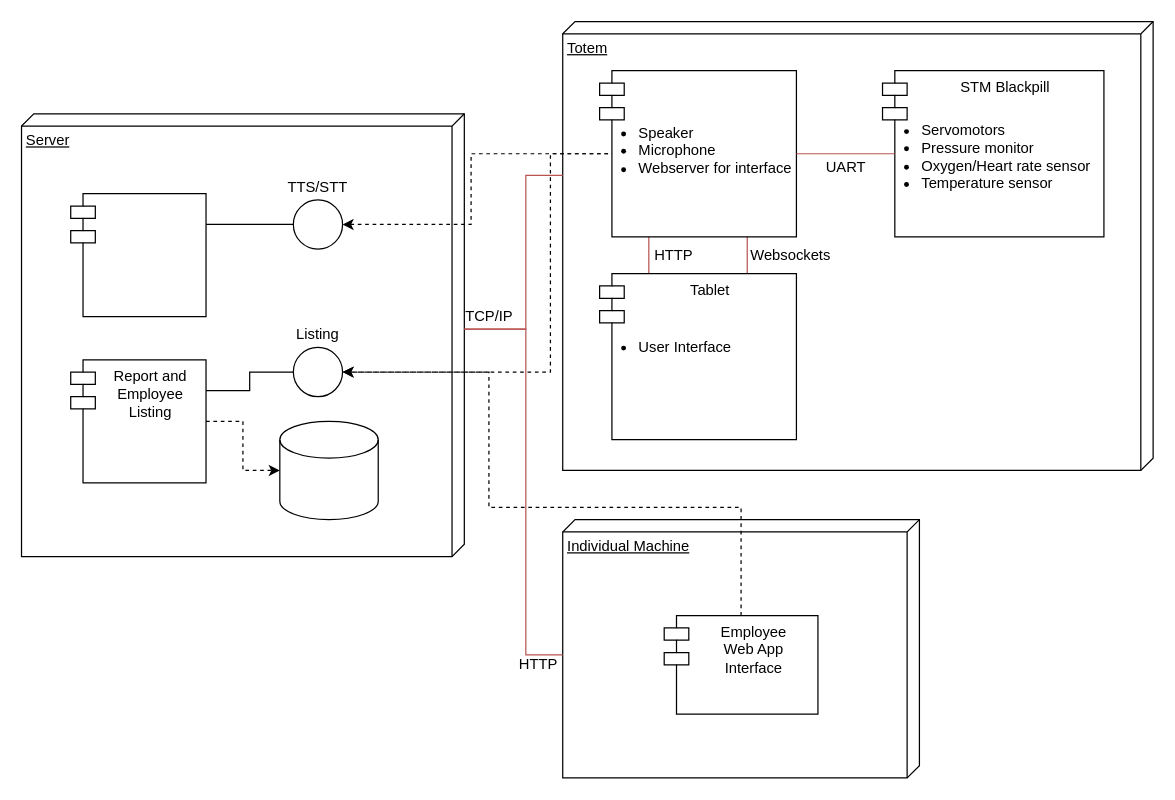
The diagram is 1175 pixels wide and 800 high, and some of its shapes have lost their labels. Each missing label, with the box of its shape:
Database: (279, 420, 378, 520)
Raspberry Pi 4: (598, 69, 796, 237)
TTS/STT Service: (69, 192, 206, 317)
